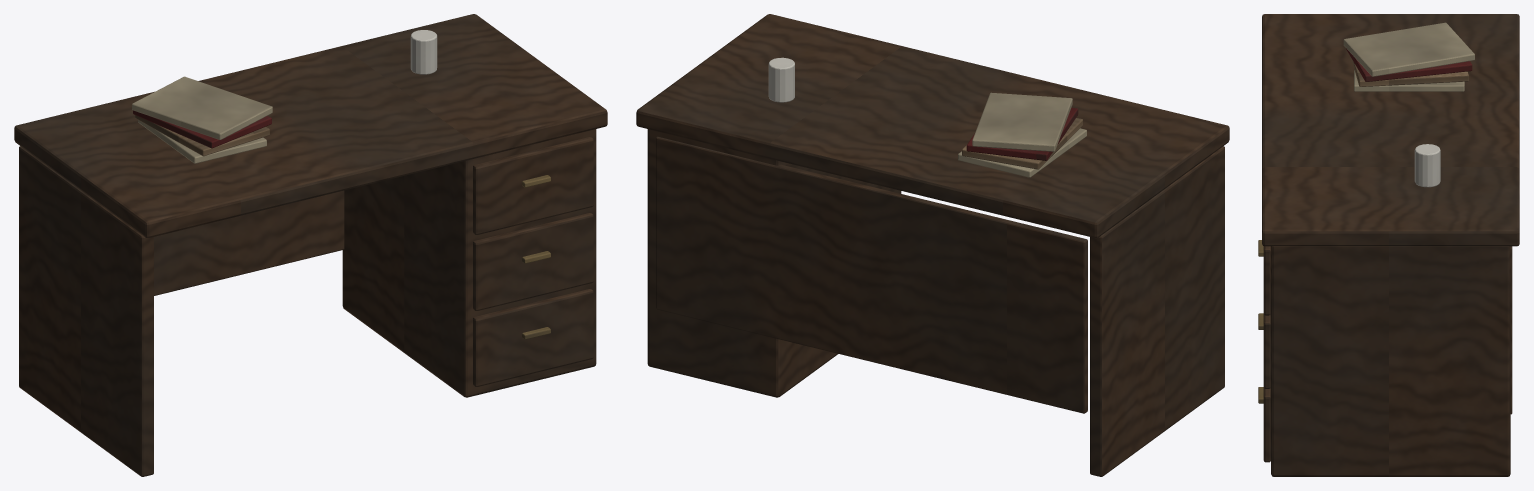
Rendered from S03_teacher_desk.glb.
3 views of the same model, side by side, from view 1: azimuth 30°, elevation 25°; view 2: azimuth 150°, elevation 25°; view 3: azimuth 270°, elevation 25° (orthographic). The views are drawn at different scales.
Parts seen in each view (by area): view 1: S03_teacher_desk; view 2: S03_teacher_desk; view 3: S03_teacher_desk.
Part boxes in pixels (<box>): S03_teacher_desk: <box>14,14,607,476</box>; S03_teacher_desk: <box>636,14,1229,476</box>; S03_teacher_desk: <box>1258,14,1519,476</box>.
Bounding box in the file's own units: 1.4 × 0.855 × 0.71.
6 materials, 6 textured.
